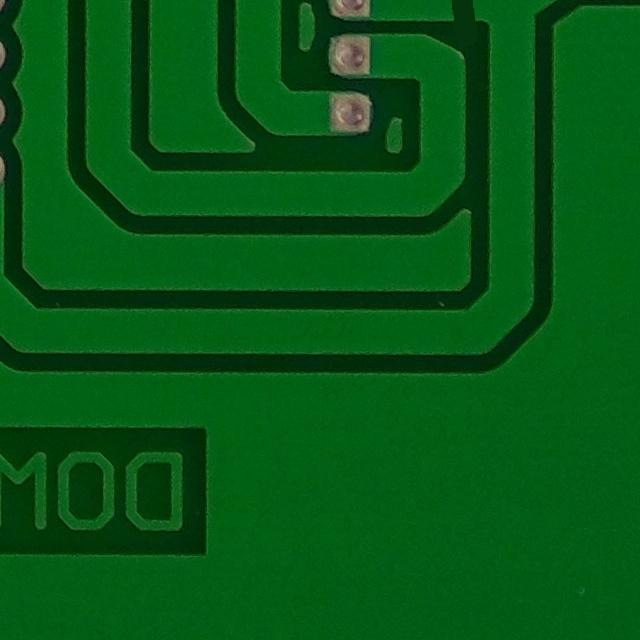open_circuit: (422, 0, 497, 39)
